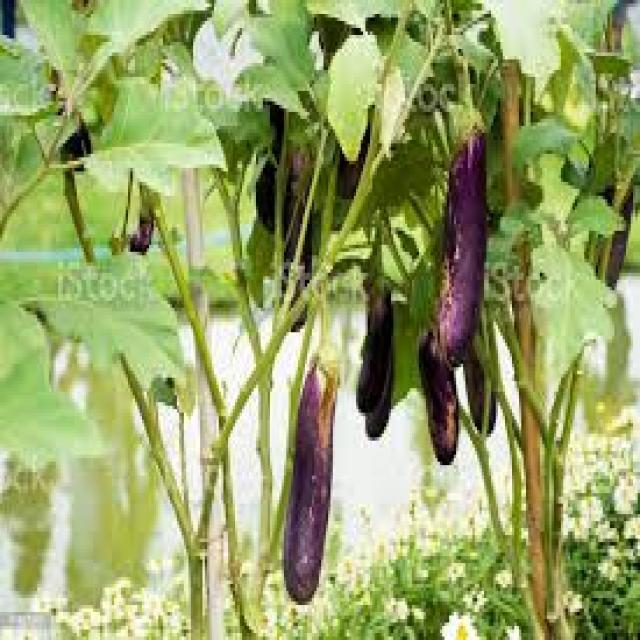Eggplant: (416, 78, 491, 382), (281, 313, 343, 604), (409, 308, 462, 467), (255, 51, 298, 233), (356, 261, 396, 415), (463, 288, 502, 434), (364, 308, 398, 438), (60, 90, 94, 178), (126, 186, 162, 266)
